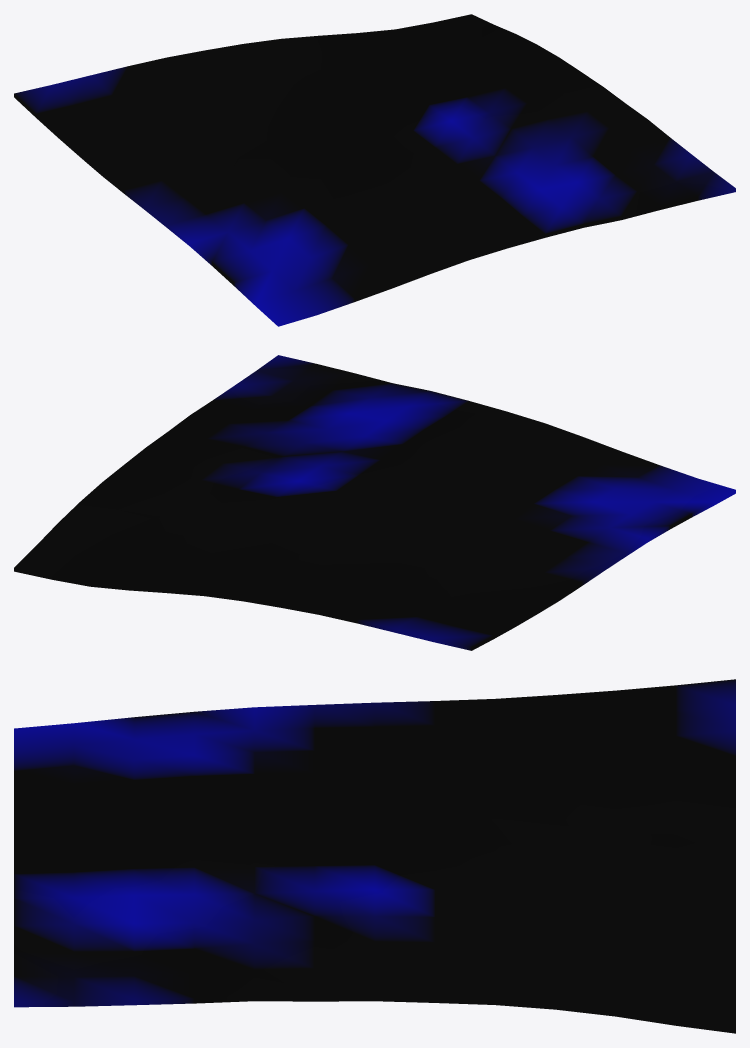
The model's file is coast_5_0.glb.
3 views of the same model, one above another, from view 1: azimuth 30°, elevation 25°; view 2: azimuth 150°, elevation 25°; view 3: azimuth 270°, elevation 25° (orthographic). The views are drawn at different scales.
Visible parts, largest first — view 1: terrain; view 2: terrain; view 3: terrain.
Boxes of the visible parts, bbox=[...] form: terrain: bbox=[14, 14, 735, 326]; terrain: bbox=[14, 355, 735, 650]; terrain: bbox=[14, 679, 735, 1033].
Size of the model in its own units: 192 by 15.95 by 192.
